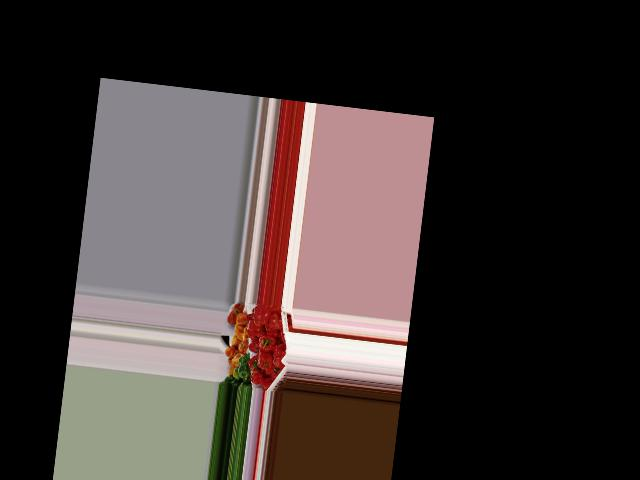bell_pepper: (271, 342, 288, 369)
